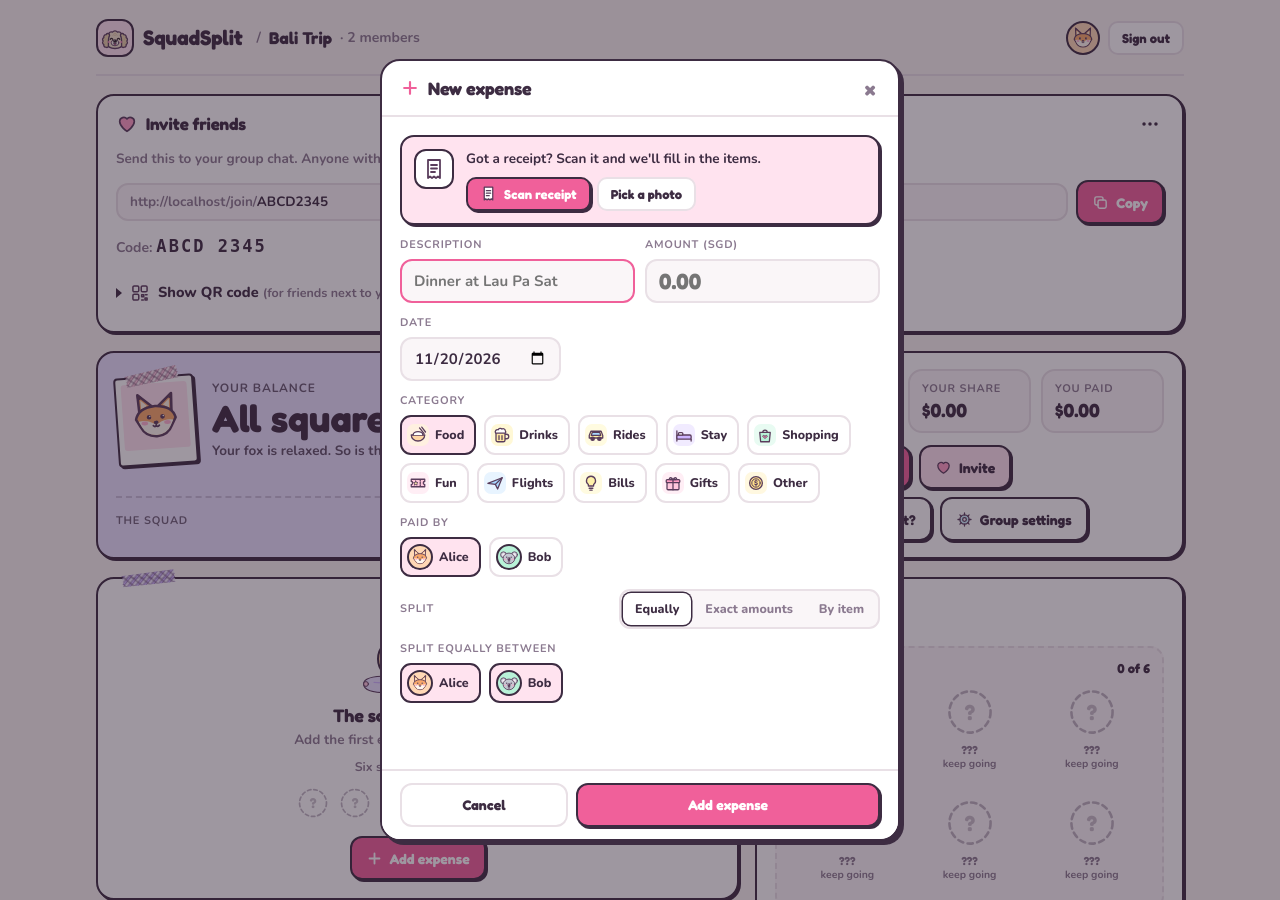
Scenario: the expense dialog › asks before closing over unsaved changes, from Cancel, Escape or the ×
Later steps or results of the test are not shown.
In the field labelled "Description": (518, 281) [400,259,635,303], type "Dinner"
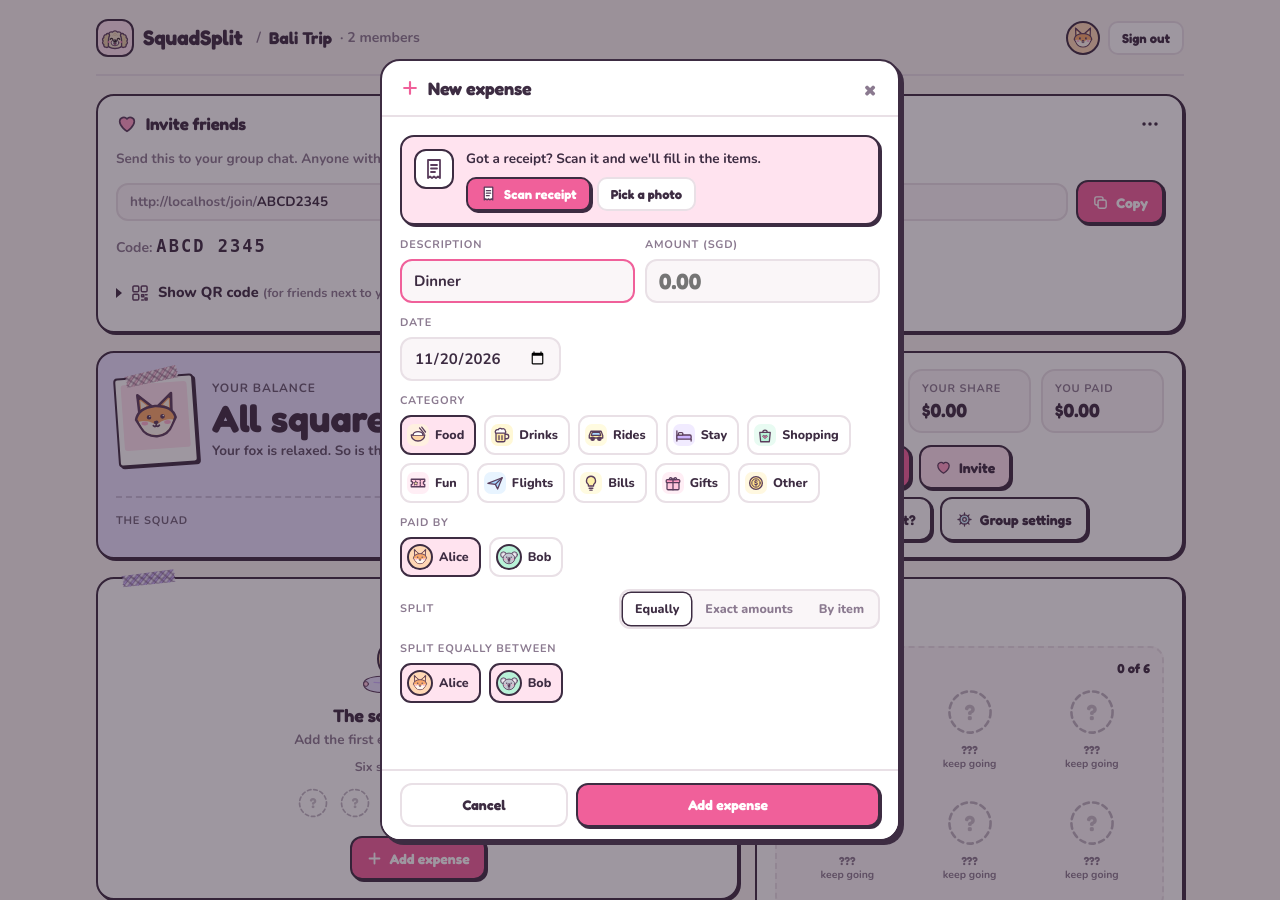
Click the button "Cancel": (484, 805) [400,783,568,827]
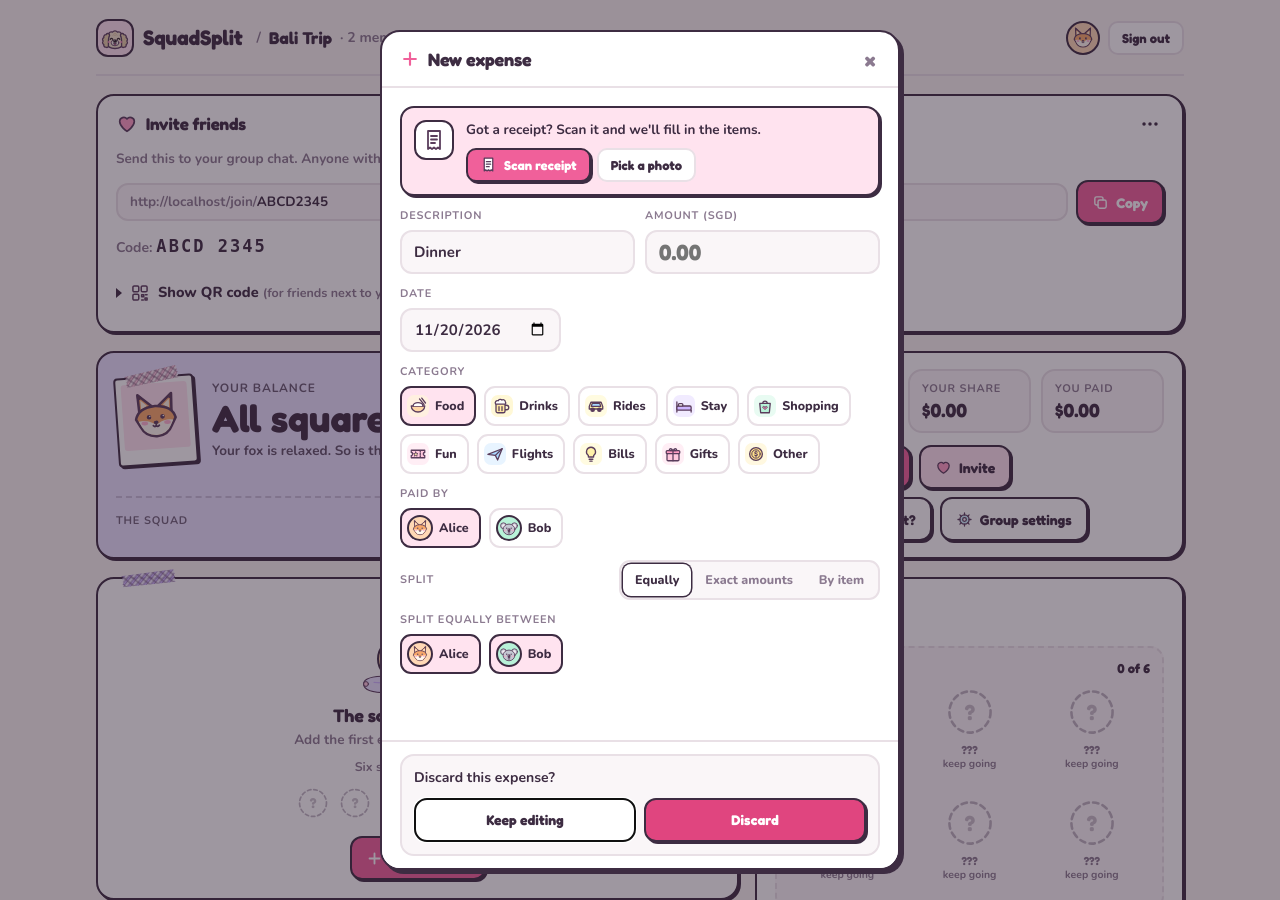
Click the button "Keep editing": (525, 820) [414,798,636,842]
Click the button "Keep editing": (525, 820) [414,798,636,842]
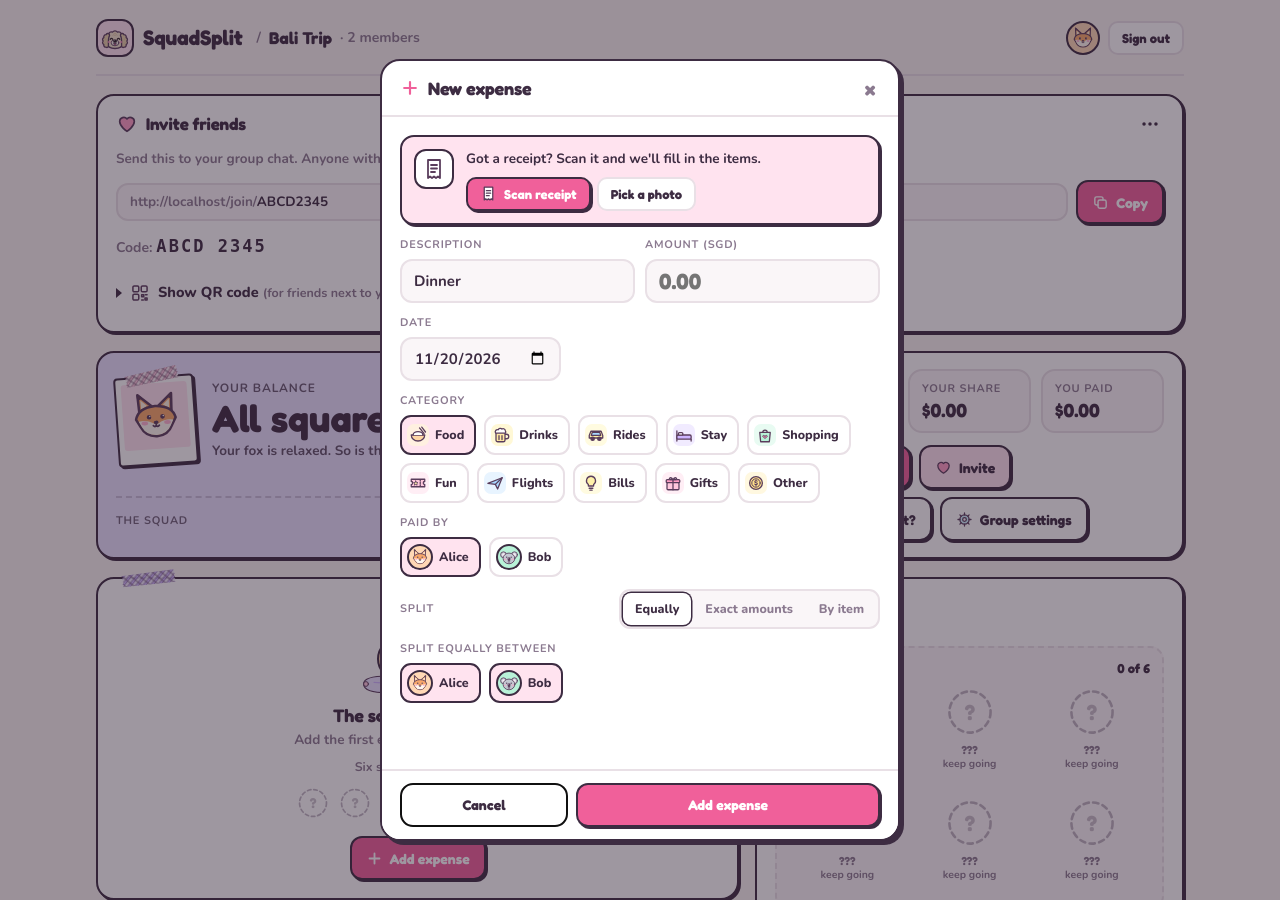
Now the text "Discard this expense?" is gone
Click the button named "Close": (870, 88) [848,66,892,110]
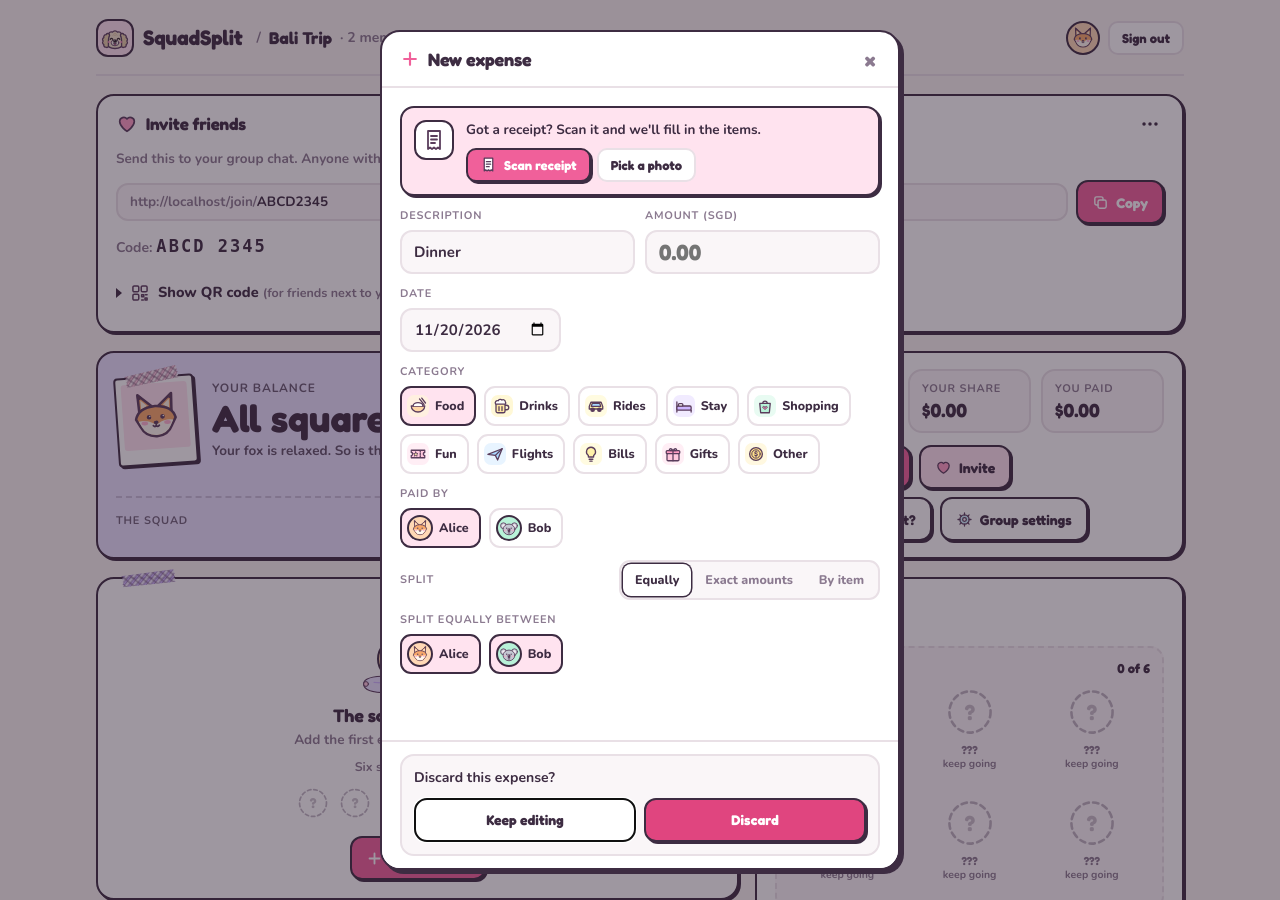
Click the button "Keep editing": (525, 820) [414,798,636,842]
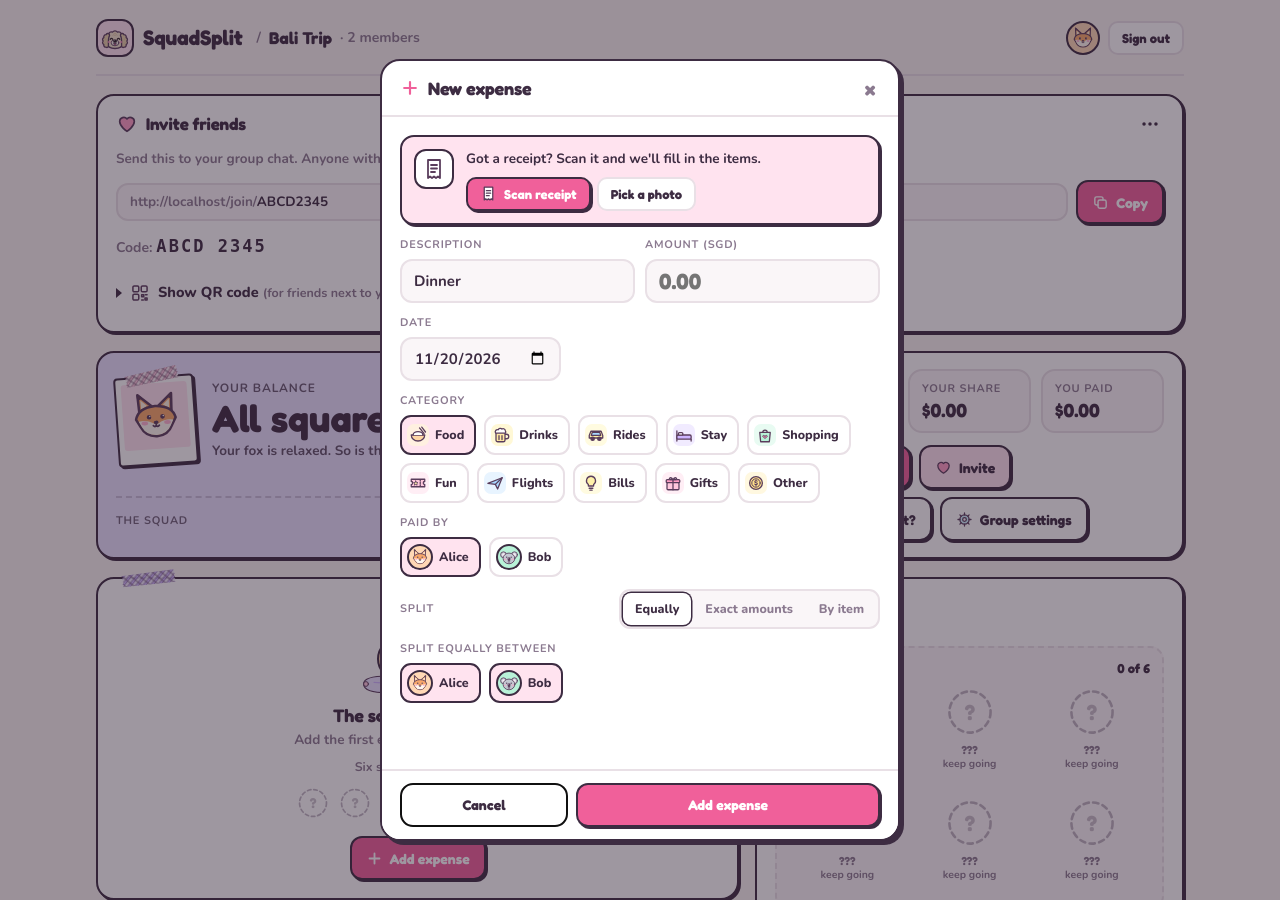
Now the text "Discard this expense?" is gone
